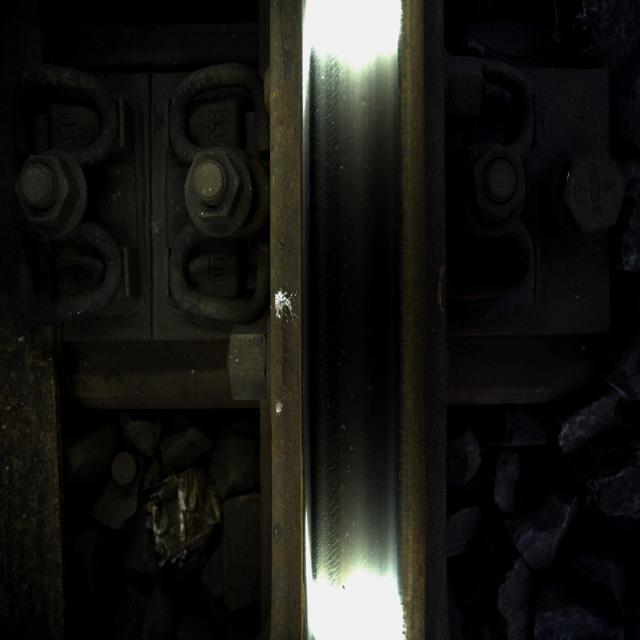break: (314, 52, 398, 634)
